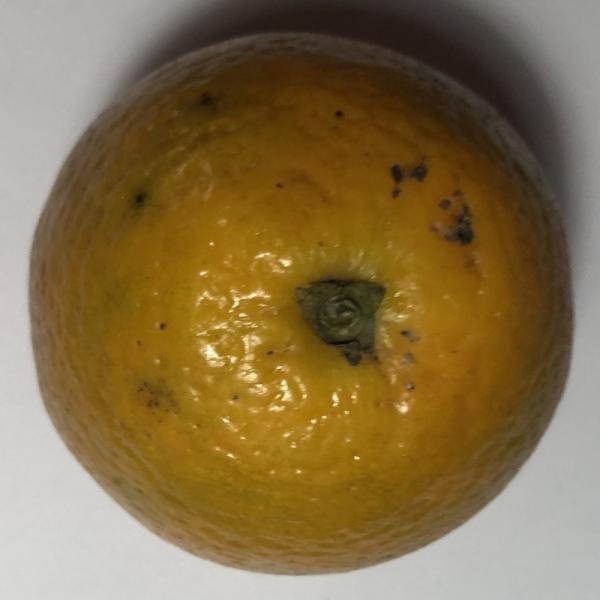Machas negras: (10, 17, 586, 582)
